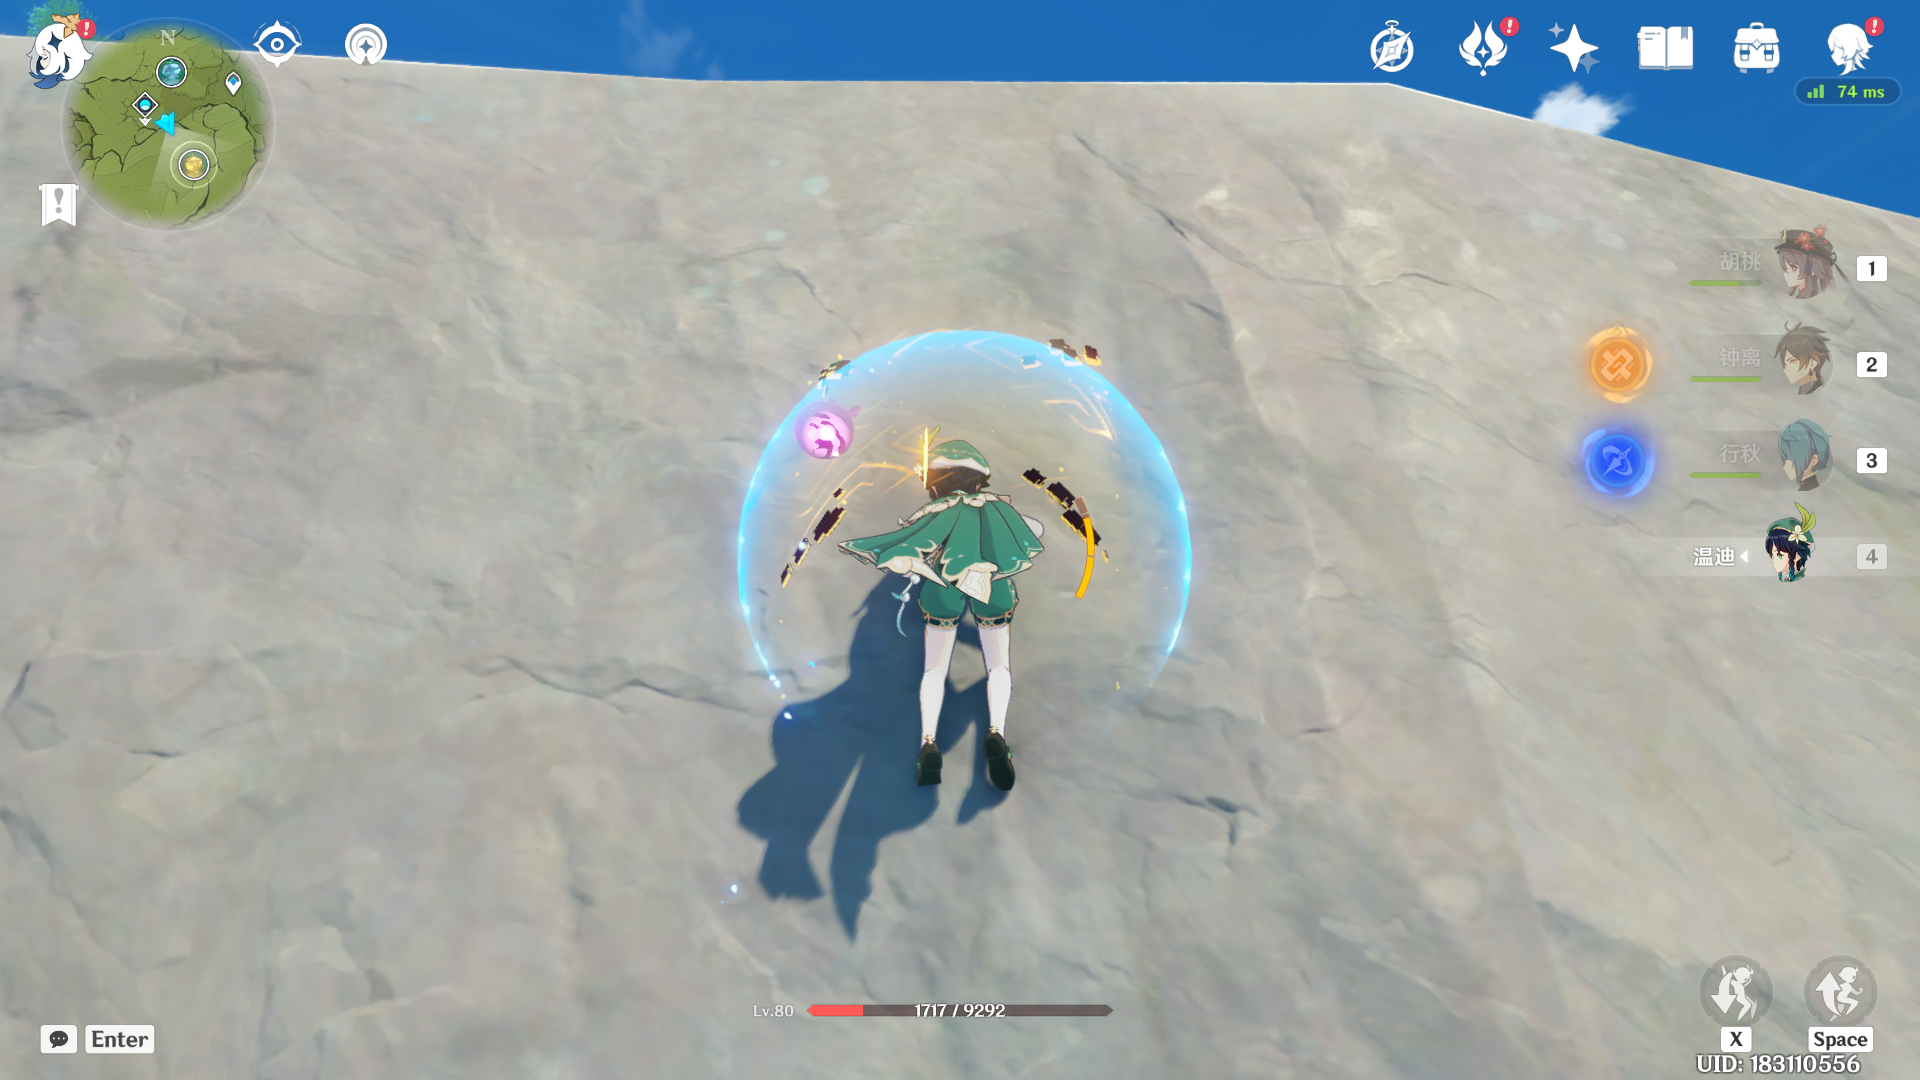character: (811, 402, 1091, 847)
